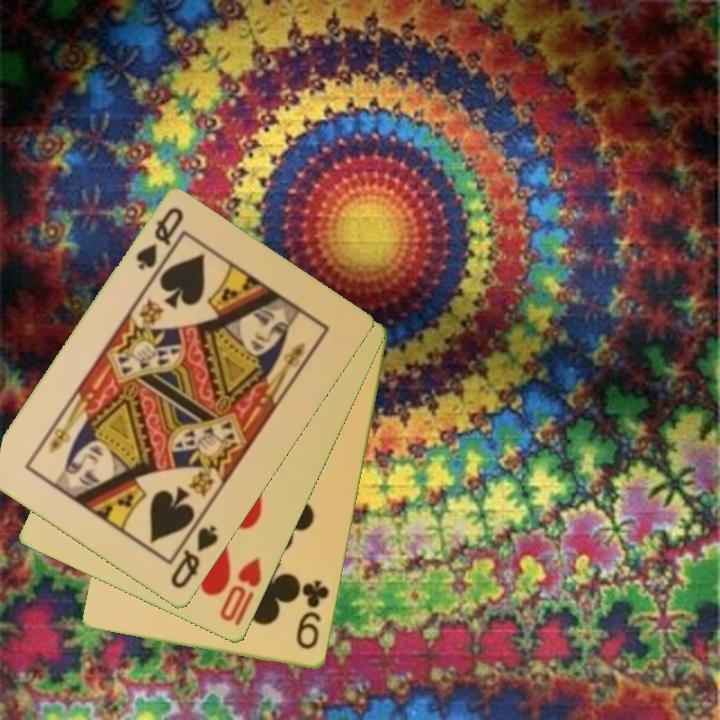10h: (216, 553, 265, 630)
9c: (293, 577, 333, 653)
Qs: (167, 522, 222, 593), (132, 204, 187, 274)
